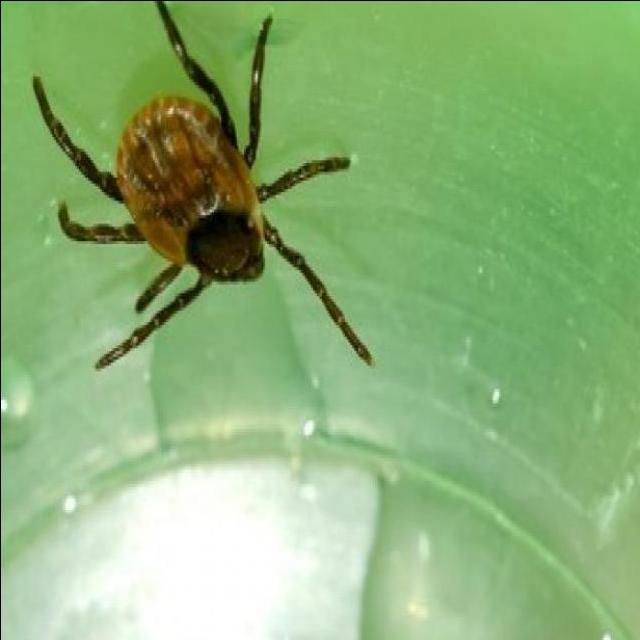Rhipicephalus Sanguineus-F: (30, 0, 370, 367)
